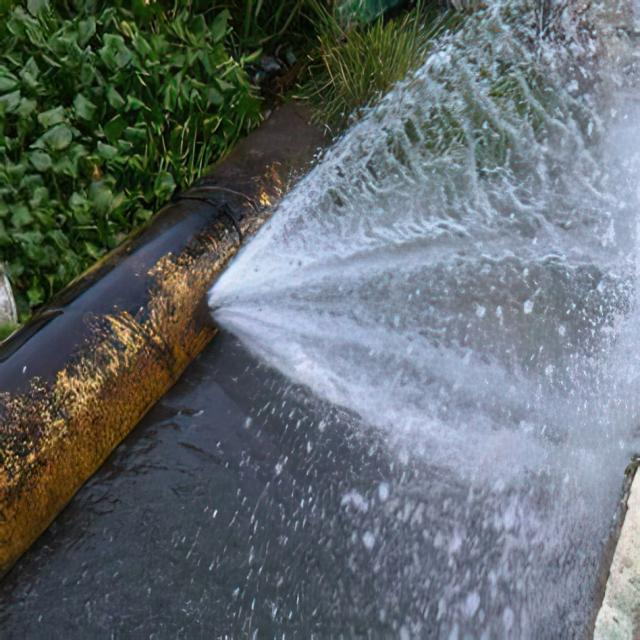leak: (209, 3, 640, 487)
